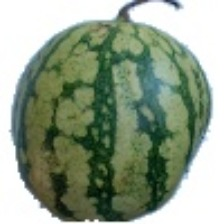watermelon: (40, 35, 178, 215)
